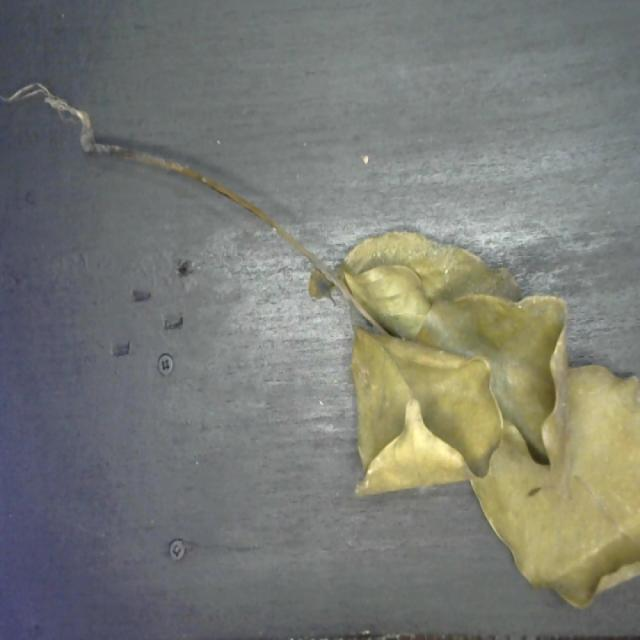biodegradable: (335, 218, 640, 618)
